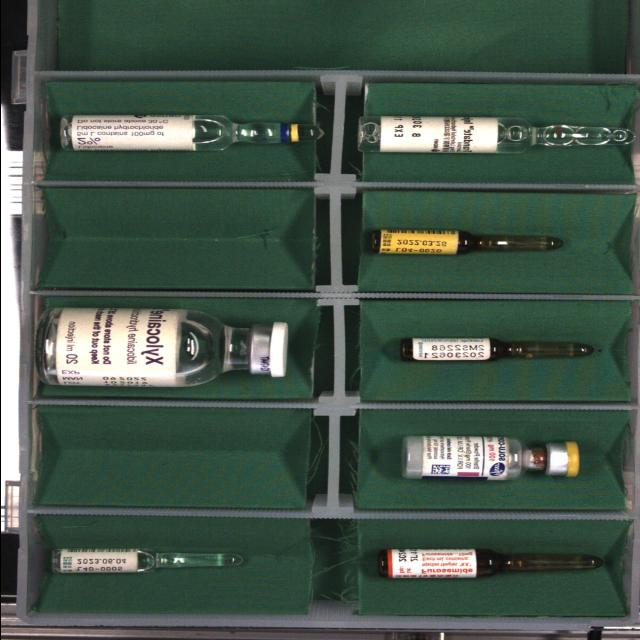Ampoules: (357, 116, 634, 154), (59, 115, 323, 151), (378, 549, 602, 579), (371, 229, 562, 255), (401, 338, 593, 362), (51, 549, 243, 573), (402, 338, 501, 361)
Vials: (37, 308, 287, 387), (401, 436, 579, 480)
